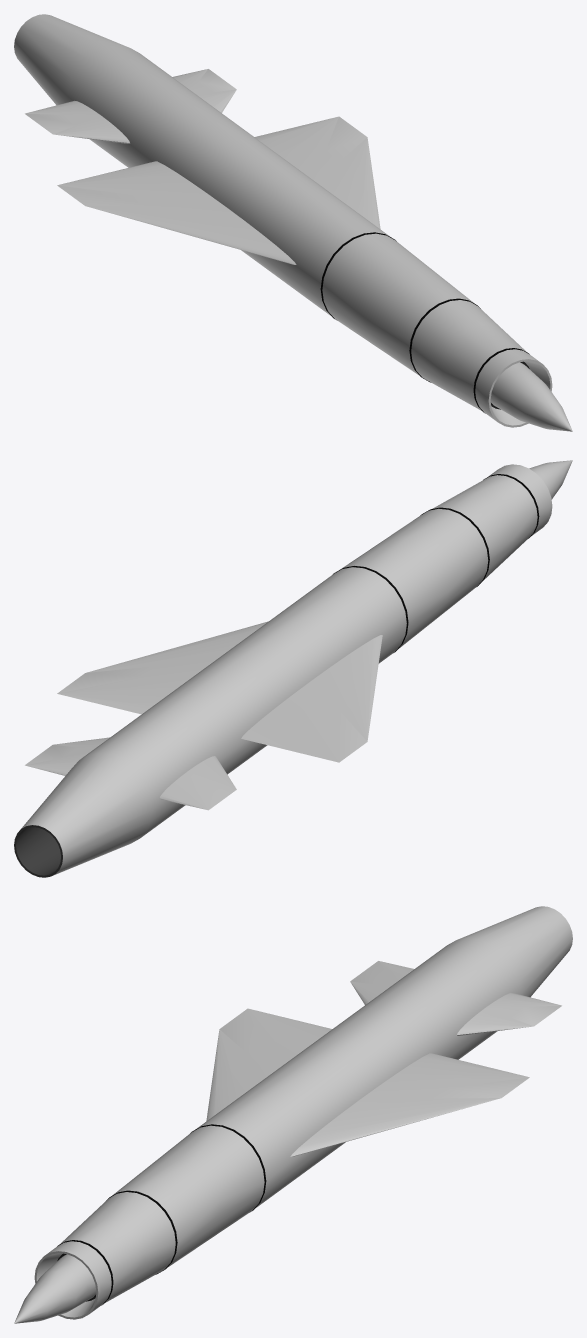
The model's file is Aircraft_export.obj.
3 renders of one model, top to bottom at view 1: azimuth 30°, elevation 25°; view 2: azimuth 150°, elevation 25°; view 3: azimuth 330°, elevation 25°, orthographic.
Visible parts, largest first — view 1: Mesh_0, Mesh_1, Mesh_13, Mesh_2, Mesh_11, Mesh_10, Mesh_12, Mesh_5, Mesh_8, Mesh_14, Mesh_7, Mesh_9; view 2: Mesh_0, Mesh_10, Mesh_1, Mesh_13, Mesh_11, Mesh_2, Mesh_12, Mesh_14, Mesh_5, Mesh_8; view 3: Mesh_0, Mesh_1, Mesh_11, Mesh_2, Mesh_13, Mesh_10, Mesh_14, Mesh_5, Mesh_8, Mesh_12, Mesh_7, Mesh_9.
Boxes of the visible parts, x1,y1,x2,y2 form: Mesh_0: (66,46,390,316); Mesh_1: (322,233,474,375); Mesh_13: (57,161,296,264); Mesh_2: (411,300,526,410); Mesh_11: (254,116,380,229); Mesh_10: (14,14,129,105); Mesh_12: (25,100,129,143); Mesh_5: (475,349,552,427); Mesh_8: (511,379,561,428); Mesh_14: (172,69,236,112); Mesh_7: (490,362,542,418); Mesh_9: (539,403,572,431); Mesh_0: (80,567,406,837); Mesh_10: (14,753,152,877); Mesh_1: (340,508,488,649); Mesh_13: (241,635,382,762); Mesh_11: (57,621,268,714); Mesh_2: (432,475,537,582); Mesh_12: (159,756,236,810); Mesh_14: (25,737,109,775); Mesh_5: (487,464,552,535); Mesh_8: (529,462,563,499); Mesh_0: (196,938,520,1208); Mesh_1: (112,1125,264,1267); Mesh_11: (290,1053,529,1156); Mesh_2: (60,1192,175,1302); Mesh_13: (206,1008,332,1121); Mesh_10: (457,906,572,997); Mesh_14: (457,992,561,1035); Mesh_5: (34,1241,111,1319); Mesh_8: (25,1271,75,1320); Mesh_12: (350,961,414,1004); Mesh_7: (44,1254,96,1310); Mesh_9: (14,1295,47,1323).
Bounding box in the file's own units: 2.88 × 0.88 × 9.43.
1 material, 1 textured.
